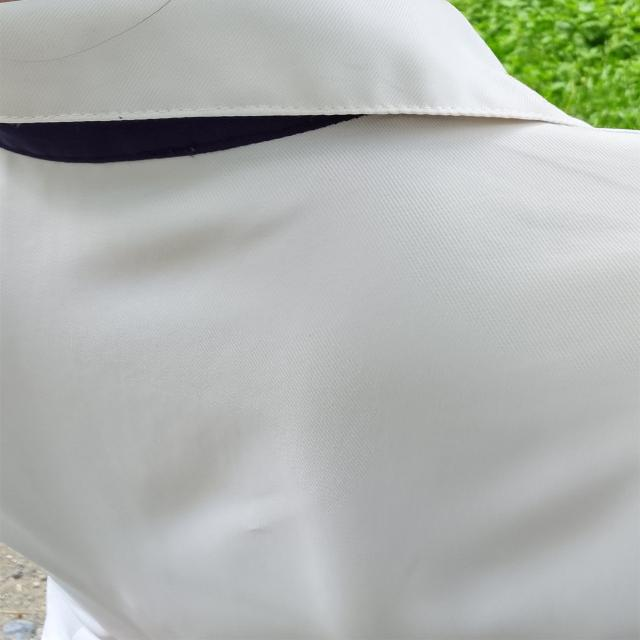education_female_uniform: (0, 1, 640, 476)
